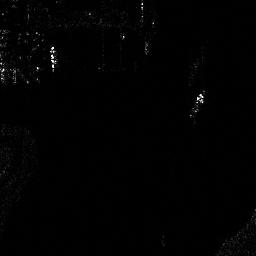ship: (189, 88, 205, 119), (48, 44, 58, 73)
